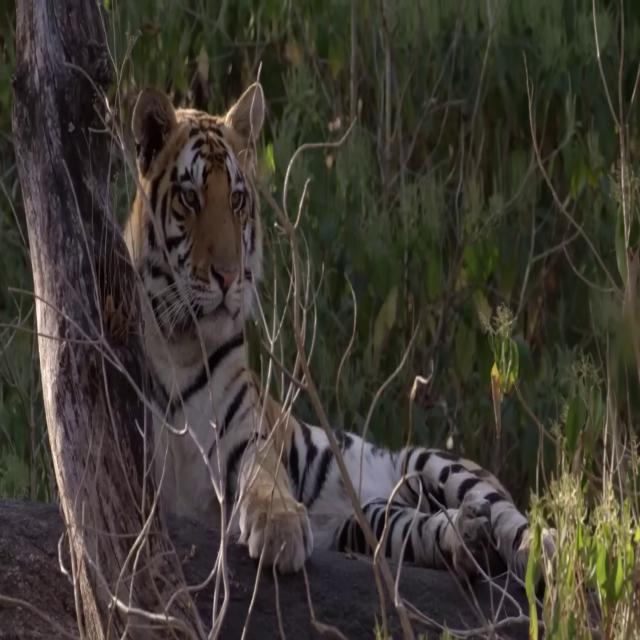tiger: (122, 80, 558, 592)
